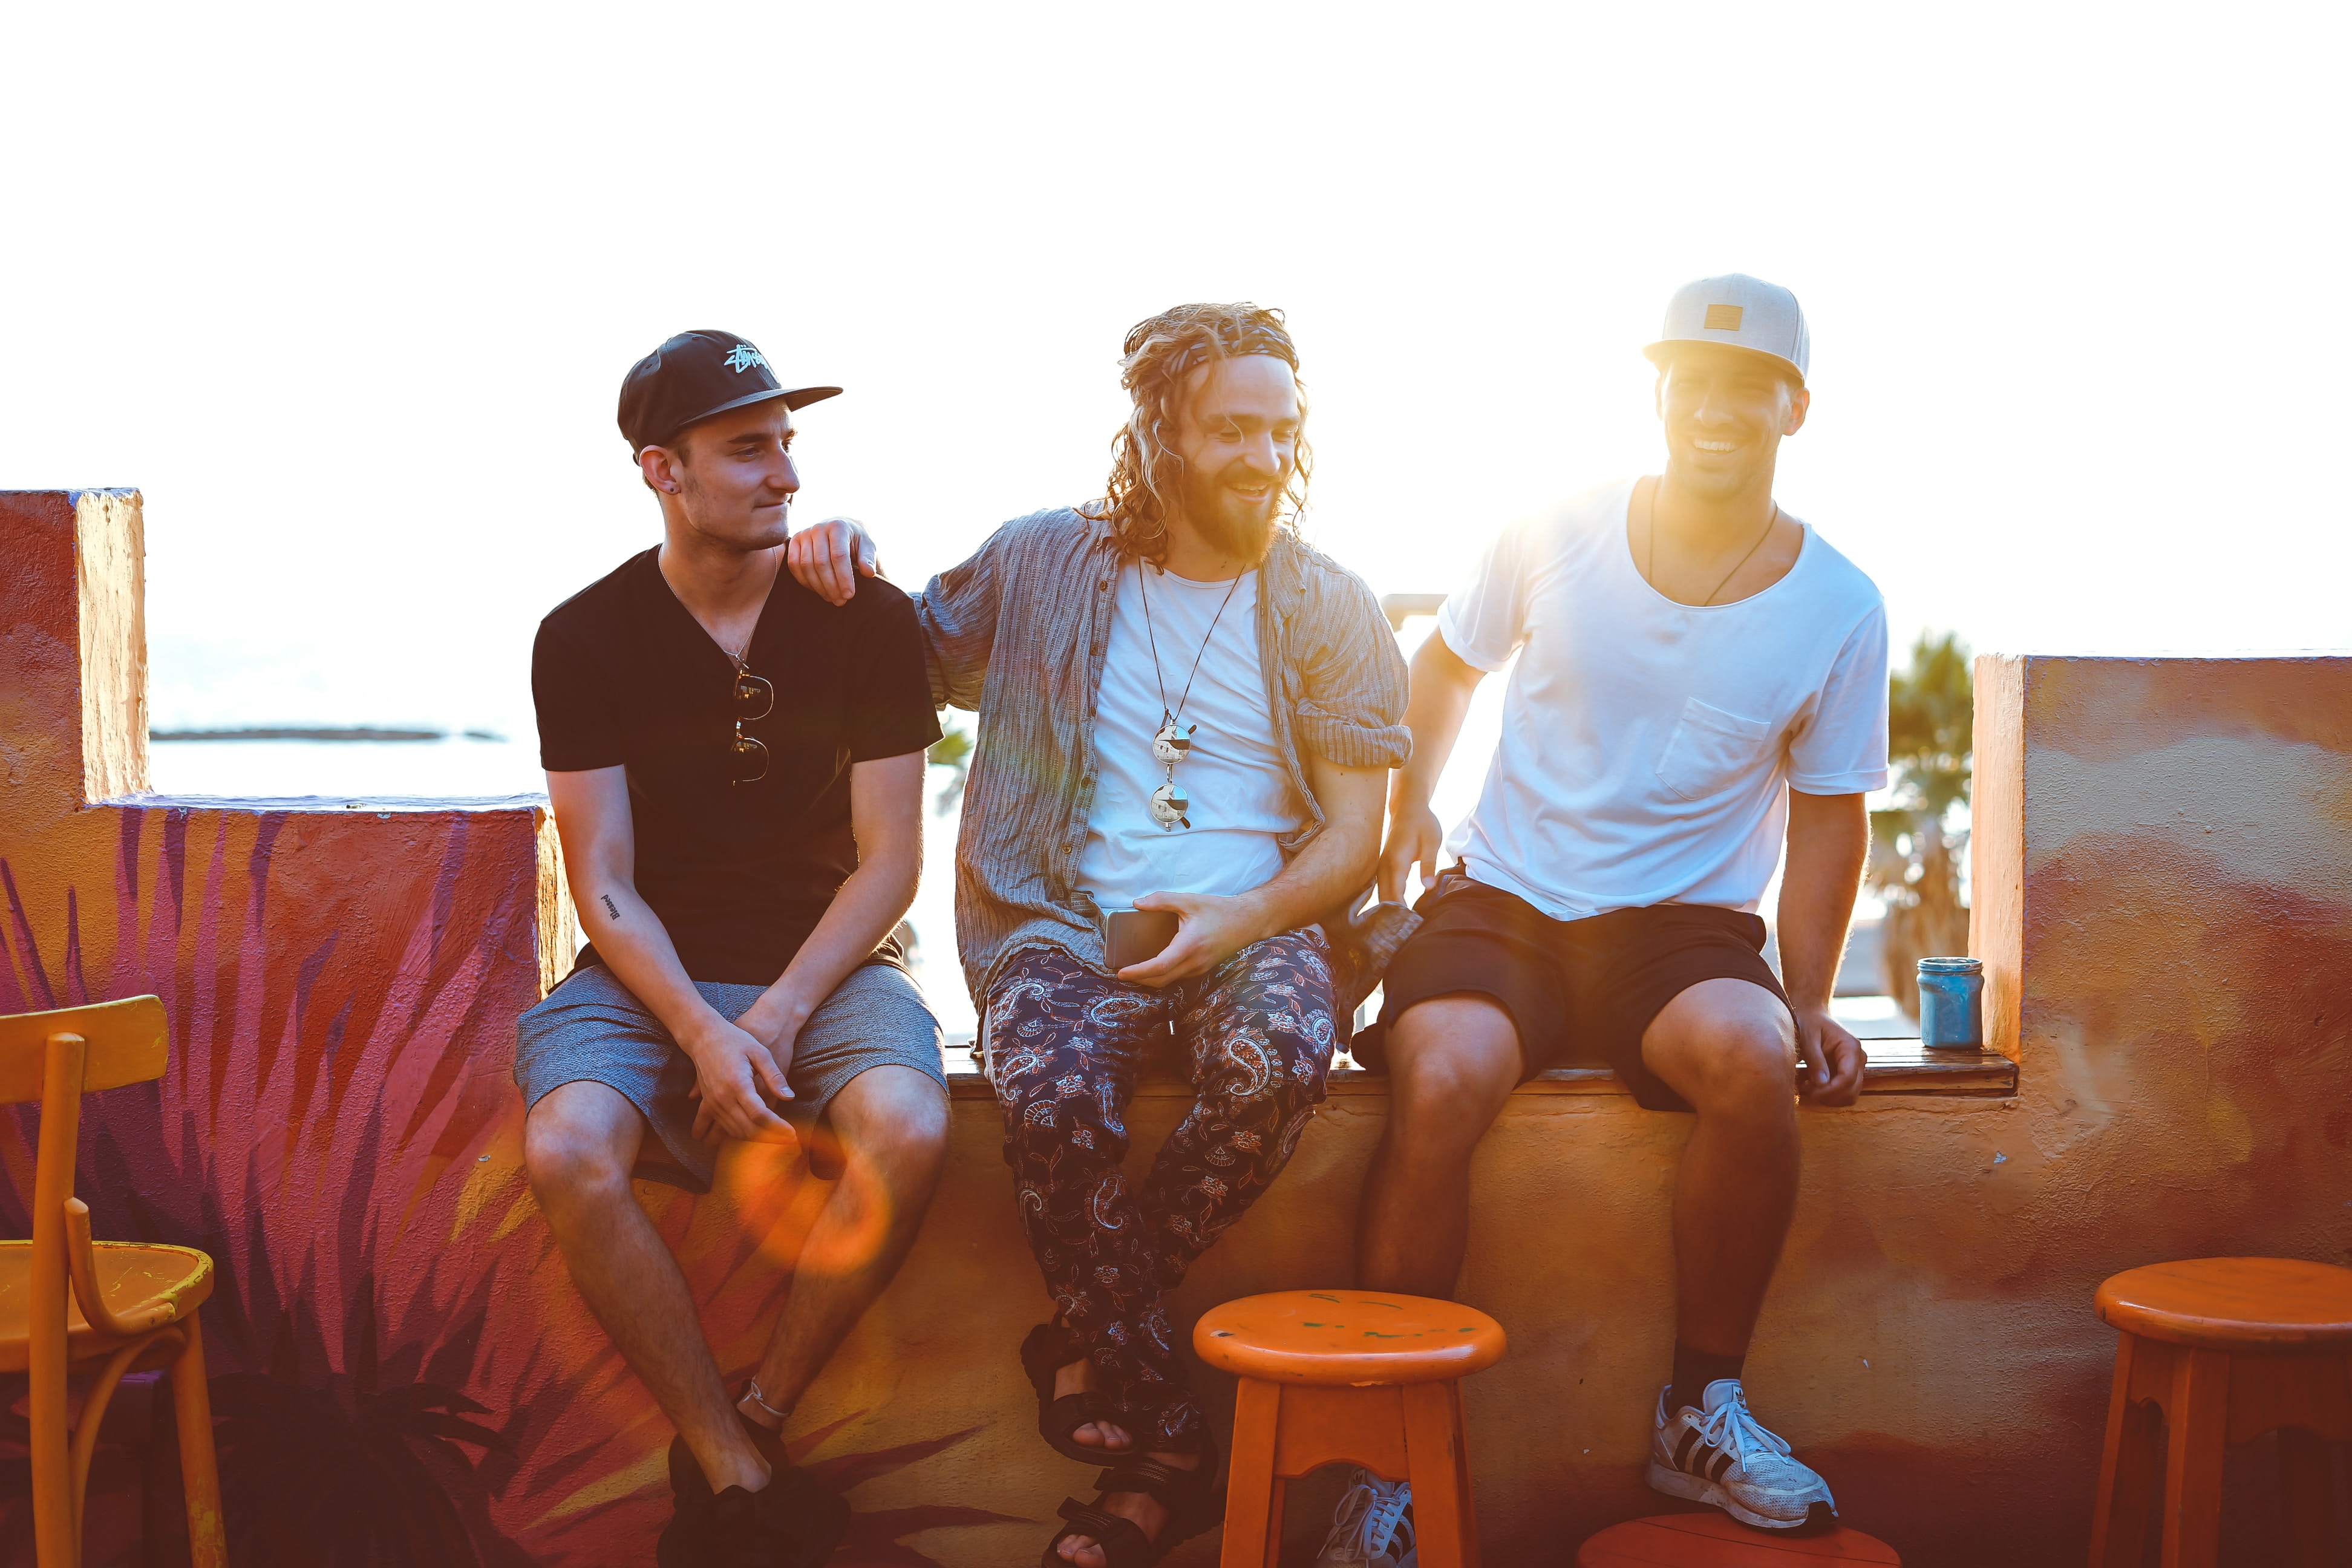person: (779, 293, 1416, 1568), (1375, 268, 1900, 1534), (517, 324, 959, 1568)
